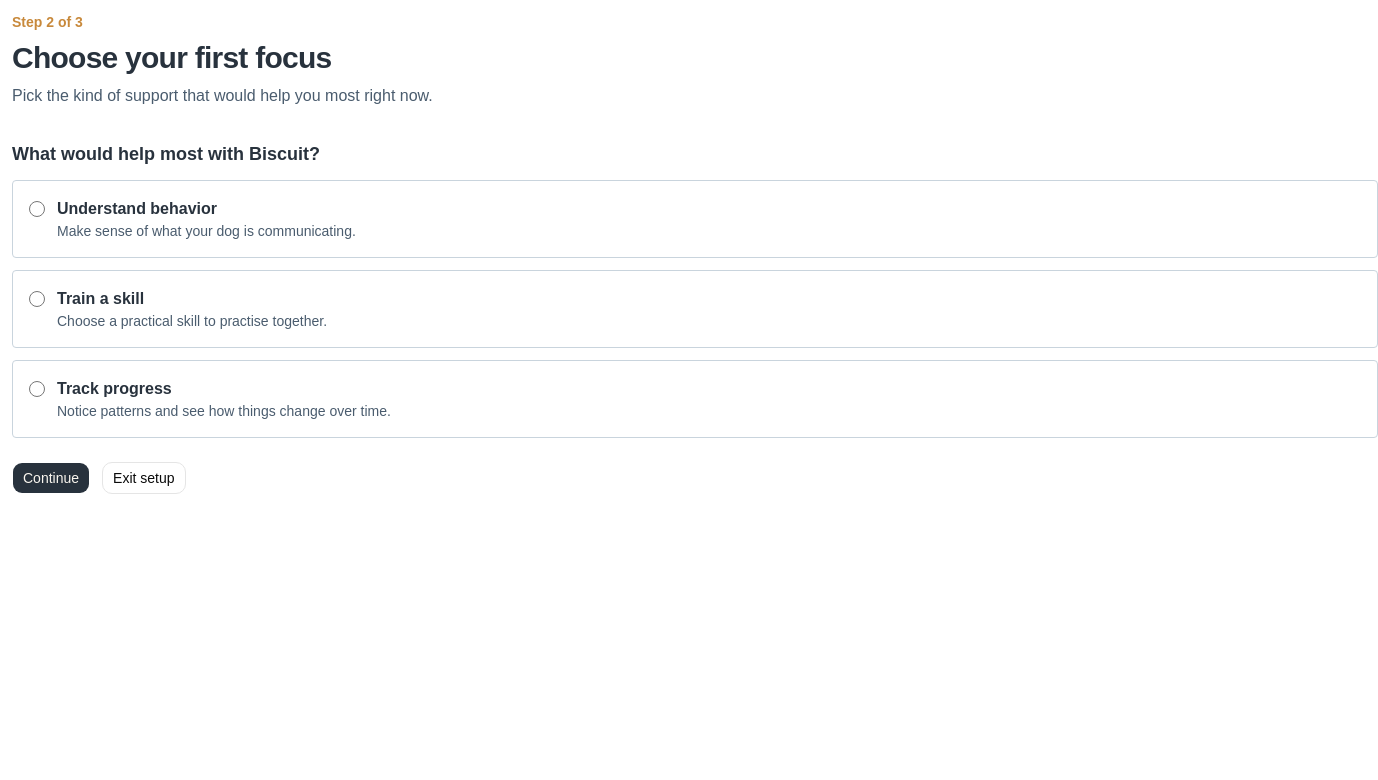
it: GuidedSetup › shows a localized required error for an empty intent submission
This screenshot has width=1378, height=780.
Step 1. Click the button "Continue" → (51,478), box [12,462,90,494]
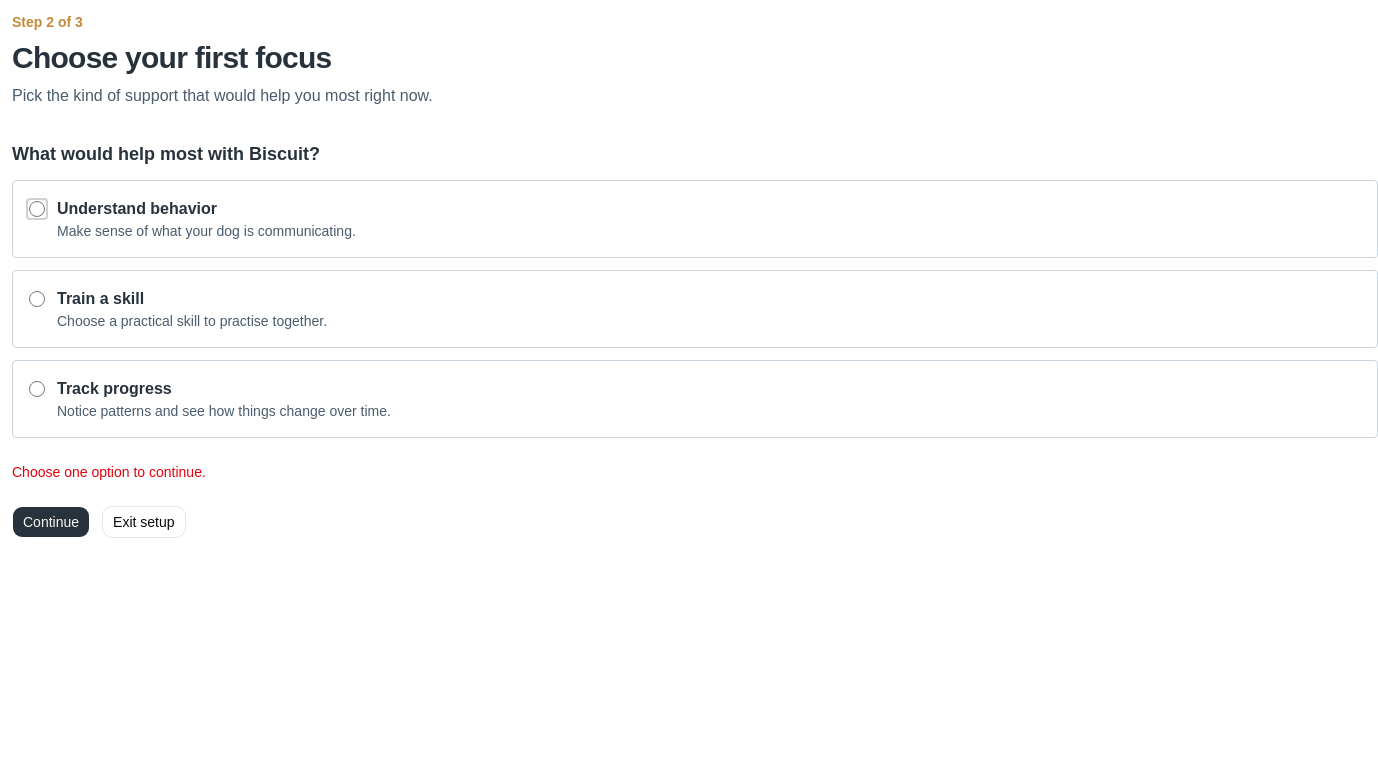
Result: the message reads "Choose one option to continue." at [12,464,206,480]
